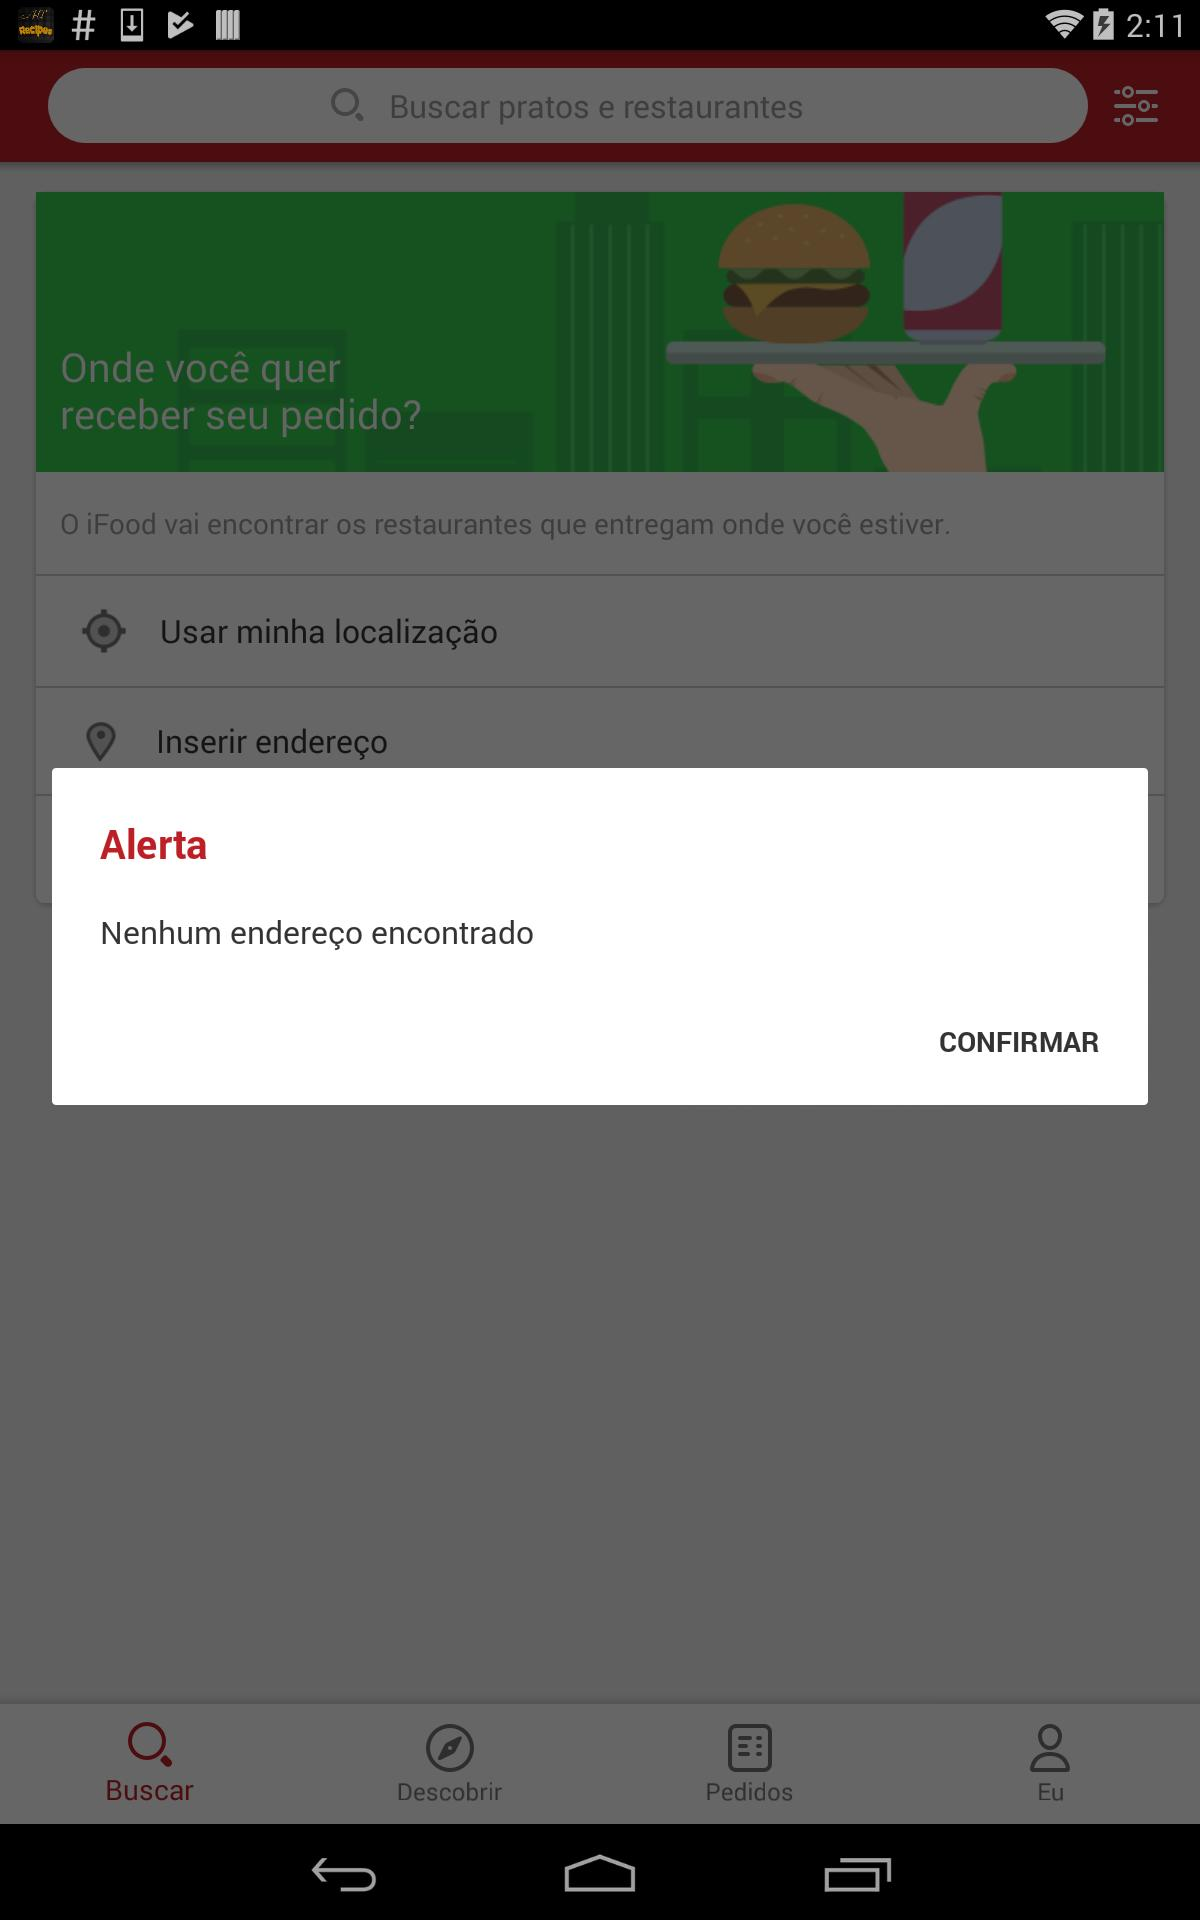android.view.View: (53, 769, 1147, 1104)
android.widget.FrameLayout: (19, 735, 1181, 1138), (53, 769, 1147, 1104)
android.widget.LinearLayout: (53, 769, 1147, 1104), (53, 769, 1147, 894)
android.widget.ScrollView: (53, 894, 1147, 977)
android.widget.TextView: (53, 910, 1147, 961), (100, 816, 1100, 869), (915, 992, 1124, 1089)
